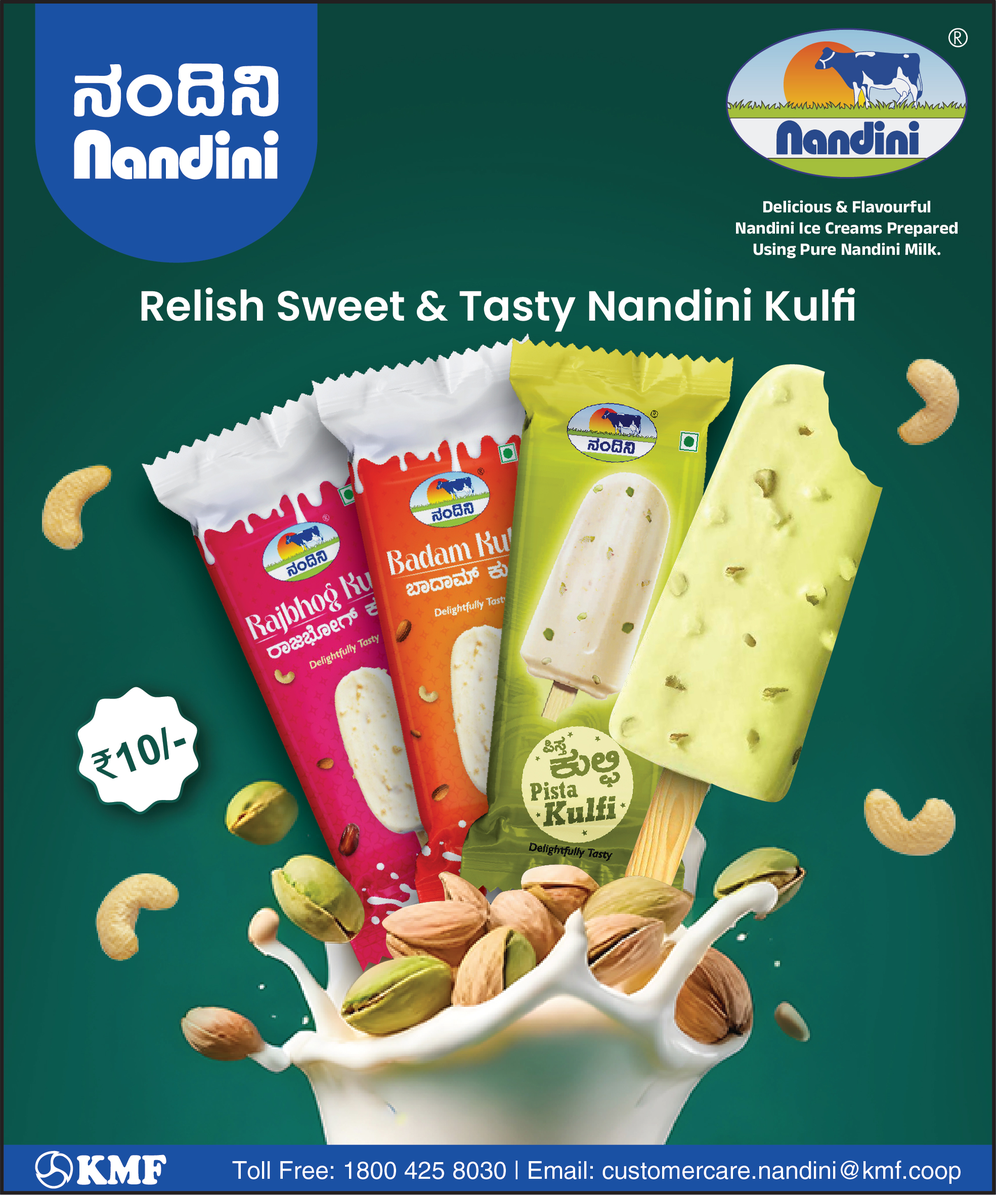Nandini Milk: (50, 60, 946, 1135)
